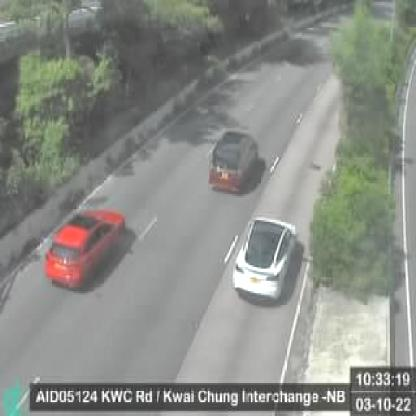Car: (43, 206, 123, 286), (230, 217, 296, 300), (209, 127, 259, 194)
